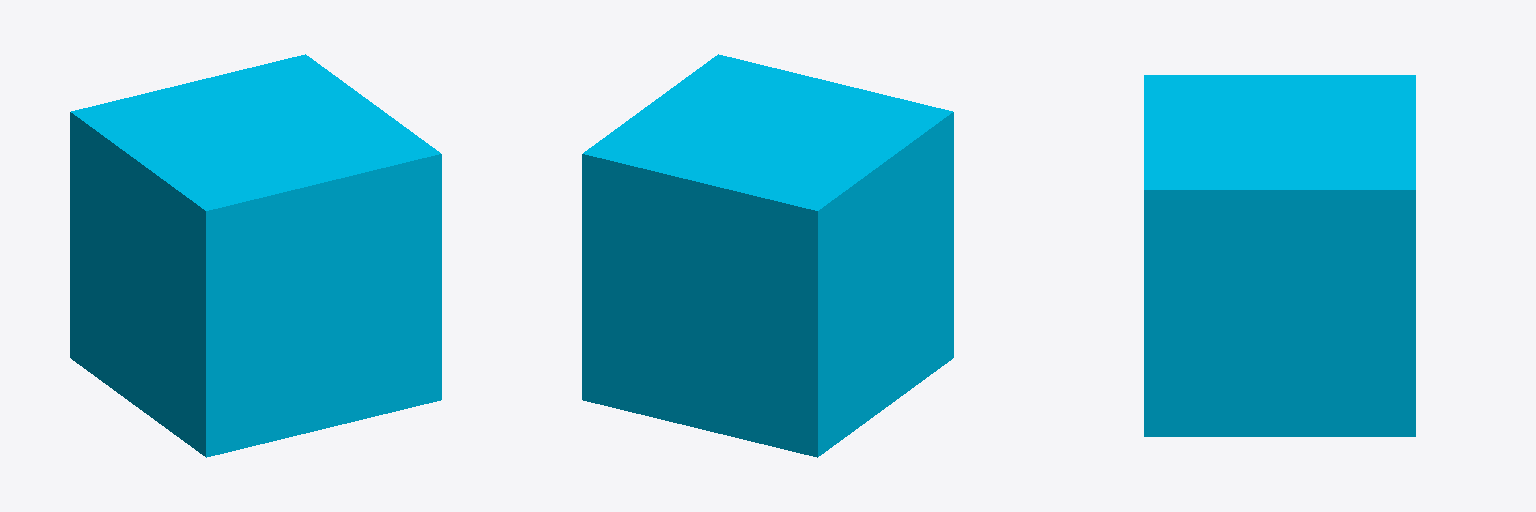
3 views of the same model, side by side, from view 1: azimuth 30°, elevation 25°; view 2: azimuth 150°, elevation 25°; view 3: azimuth 270°, elevation 25° (orthographic).
Parts seen in each view (by area): view 1: cuboid; view 2: cuboid; view 3: cuboid.
Boxes of the visible parts, x1=… form: cuboid: x1=70, y1=54, x2=441, y2=457; cuboid: x1=582, y1=54, x2=953, y2=457; cuboid: x1=1144, y1=75, x2=1415, y2=436.
Bounding box in the file's own units: 2 × 2 × 2.
1 materials, 1 textured.